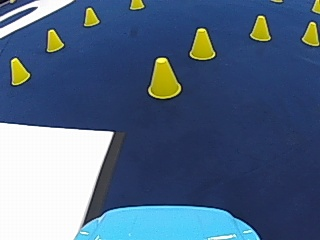cone: (147, 56, 181, 98), (188, 27, 216, 60), (248, 14, 271, 40), (9, 56, 29, 85), (301, 21, 319, 45), (45, 28, 63, 51), (83, 6, 99, 26), (129, 0, 144, 10), (310, 0, 318, 13)
